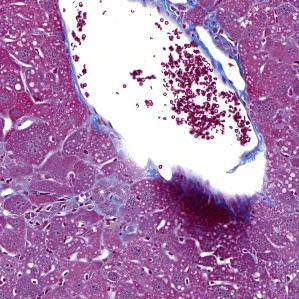fibrosis: (74, 165, 165, 216)
